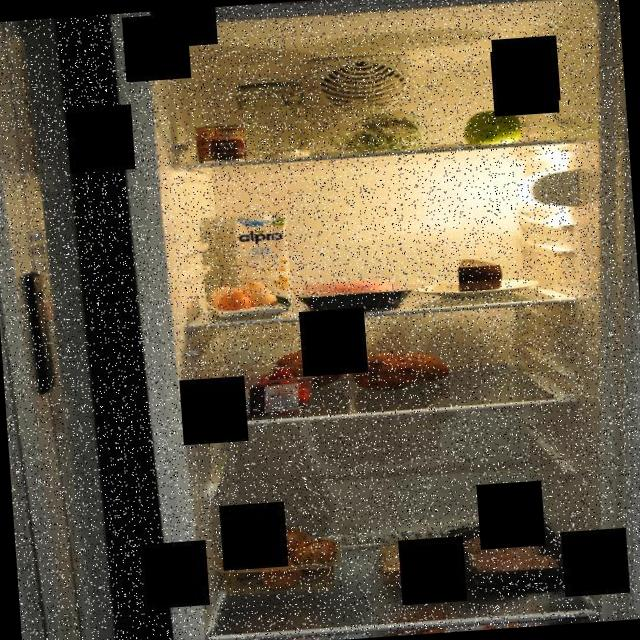Carne pollo: (443, 516, 582, 597)
Cebolla: (217, 522, 344, 594)
Huevos: (206, 278, 280, 323)
Leche: (230, 207, 294, 311)
Manzana: (457, 102, 530, 152)
Queso: (455, 255, 503, 292)
